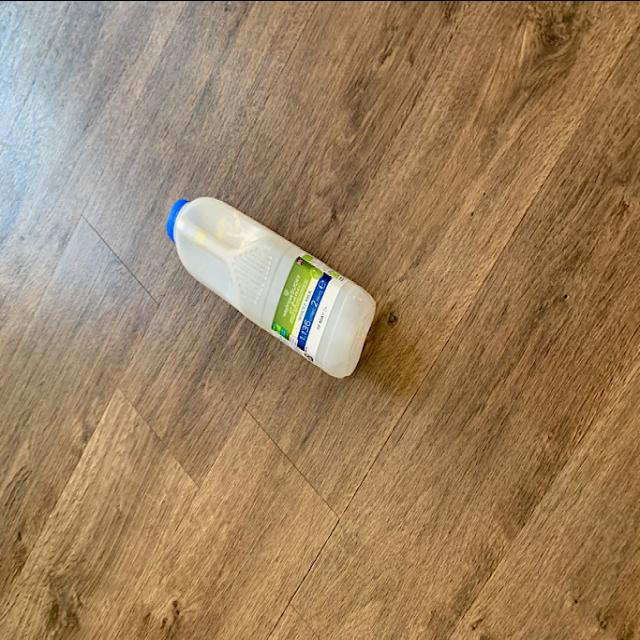HDPEM: (165, 191, 381, 379)
